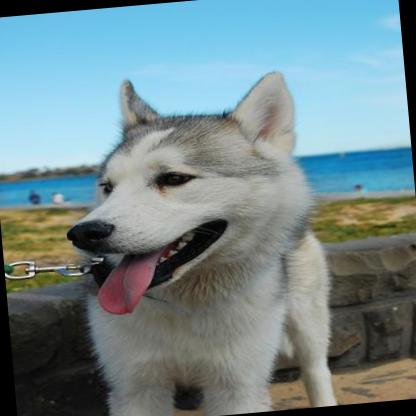Eskimo_dog: (55, 55, 352, 416)
